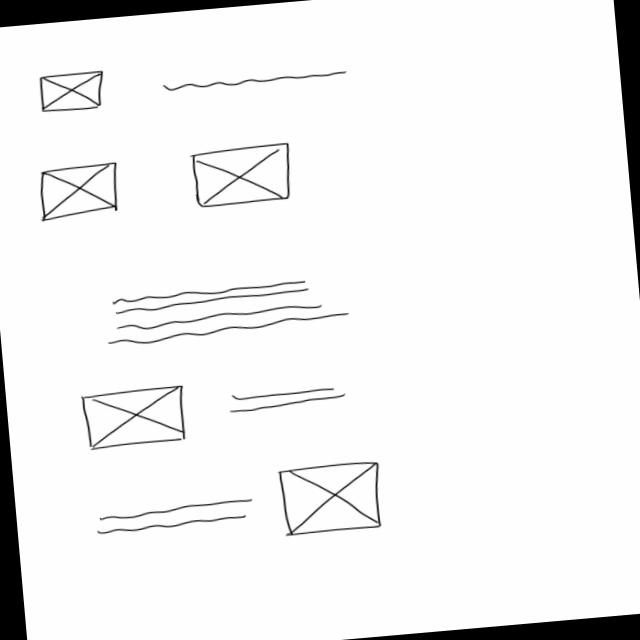image: (276, 458, 386, 537), (80, 384, 188, 450), (188, 142, 295, 208), (38, 161, 122, 222), (36, 69, 106, 114)
text: (161, 66, 348, 94)
textbox: (102, 274, 352, 348), (96, 497, 254, 535), (227, 382, 348, 414)
